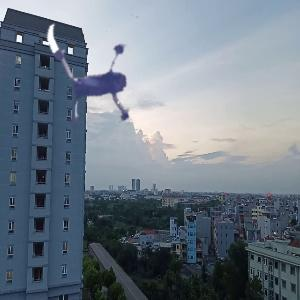drone: (31, 2, 173, 144)
